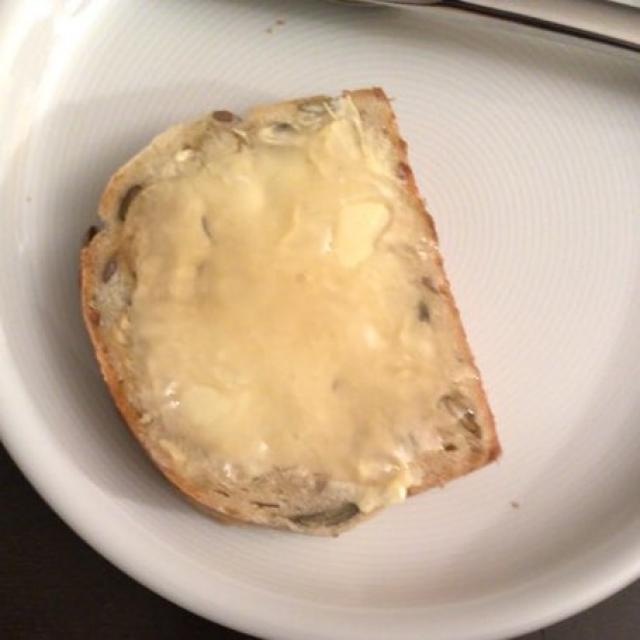bread: (85, 95, 490, 527)
butter: (122, 149, 442, 478)
jam: (100, 128, 455, 491)
